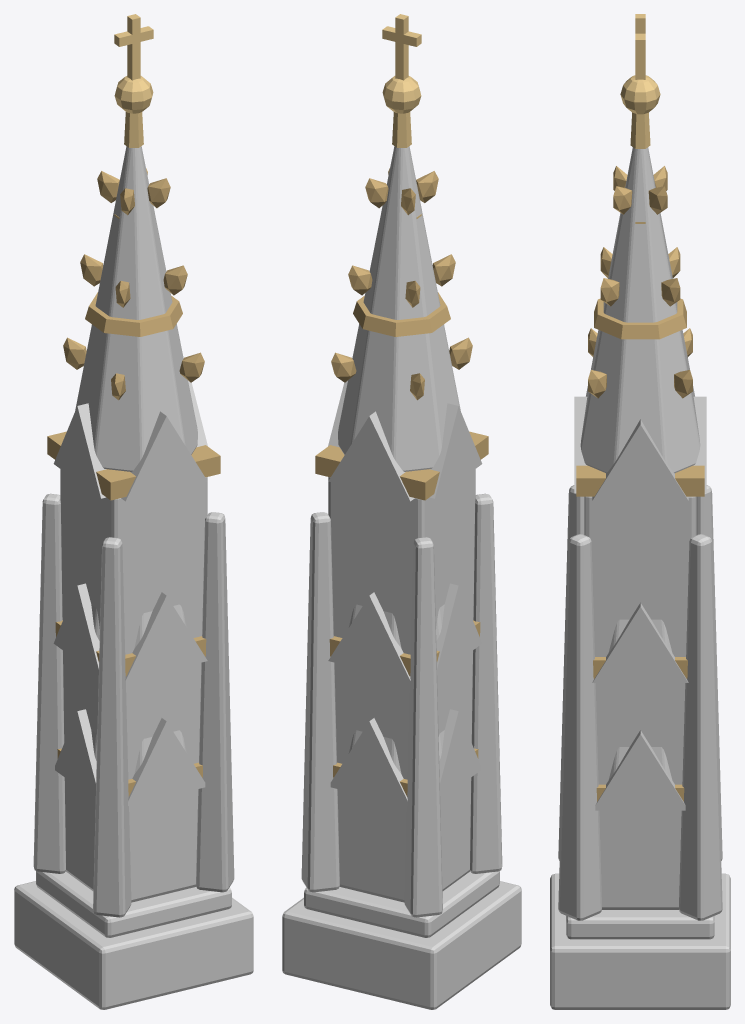
Rendered from Pinnacle.fbx.
3 renders of one model, left to right at view 1: azimuth 30°, elevation 25°; view 2: azimuth 150°, elevation 25°; view 3: azimuth 270°, elevation 25°, orthographic.
Visible parts, largest first — view 1: Pinnacle_45, Pinnacle_25, Pinnacle_35; view 2: Pinnacle_45, Pinnacle_25, Pinnacle_35; view 3: Pinnacle_45, Pinnacle_25, Pinnacle_35.
Part boxes in pixels (<box>): Pinnacle_45: <box>33,14,234,917</box>; Pinnacle_25: <box>14,709,253,1009</box>; Pinnacle_35: <box>53,214,207,899</box>; Pinnacle_45: <box>301,14,502,917</box>; Pinnacle_25: <box>282,709,521,1009</box>; Pinnacle_35: <box>328,214,482,900</box>; Pinnacle_45: <box>558,14,722,920</box>; Pinnacle_25: <box>550,730,730,1009</box>; Pinnacle_35: <box>592,222,688,909</box>.
Bounding box in the file's own units: 0.9 × 5.26 × 0.9.
